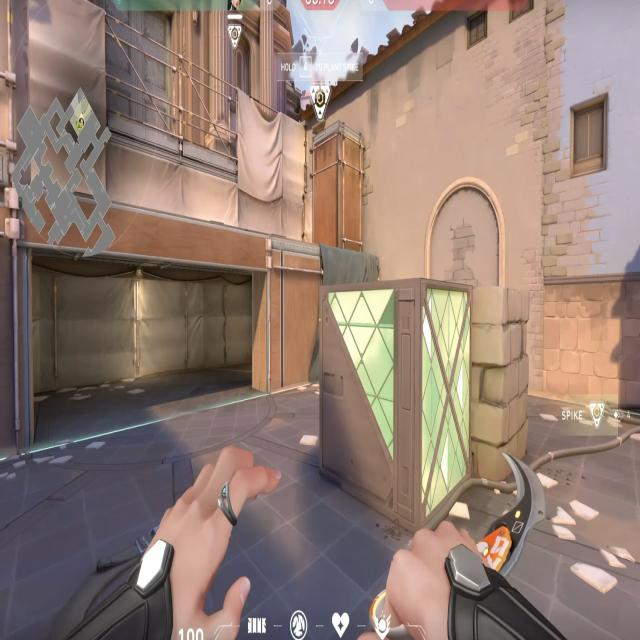A_Heaven_Box: (304, 115, 367, 254)
A_Hell: (8, 172, 284, 438)
A_Site_Box: (307, 253, 547, 530)
